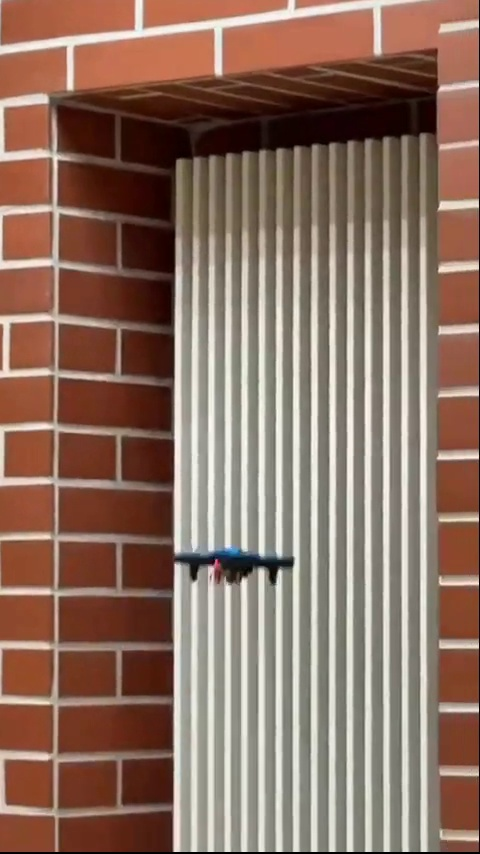drone: (173, 547, 295, 591)
